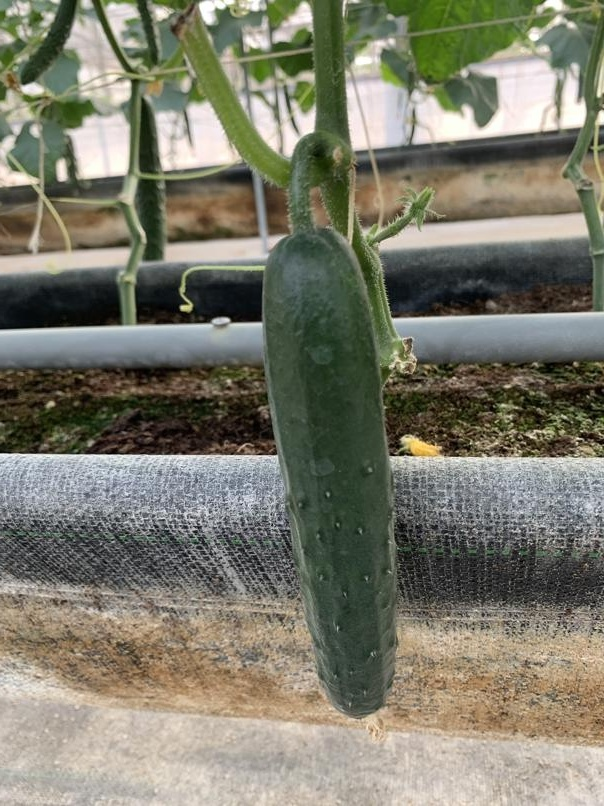mature: (253, 226, 411, 738)
